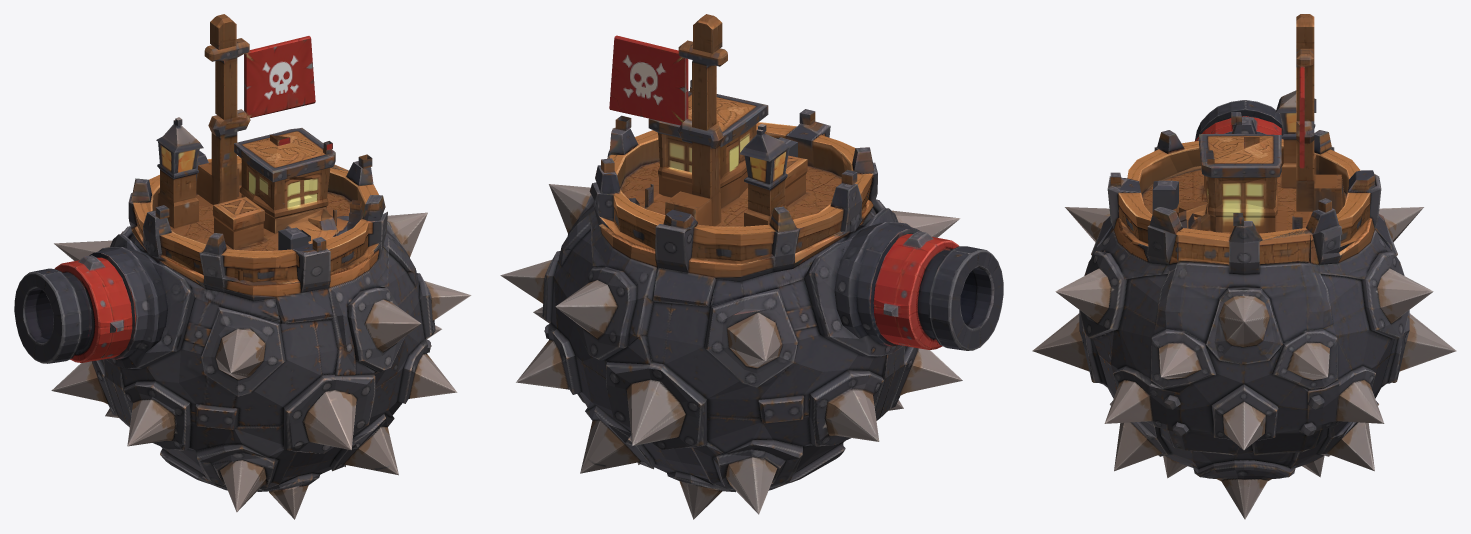
Rendered from Meshy_AI_Ironclad_Pirate_Bomba_1020140419_texture.fbx.
3 views of the same model, side by side, from view 1: azimuth 30°, elevation 25°; view 2: azimuth 150°, elevation 25°; view 3: azimuth 270°, elevation 25° (orthographic). The views are drawn at different scales.
Parts seen in each view (by area): view 1: temp; view 2: temp; view 3: temp.
Boxes of the visible parts, <box> form: temp: <box>14,14,471,519</box>; temp: <box>500,14,1003,519</box>; temp: <box>1032,14,1456,519</box>.
Size of the model in its own units: 178 by 191 by 159.
1 material, 1 textured.
